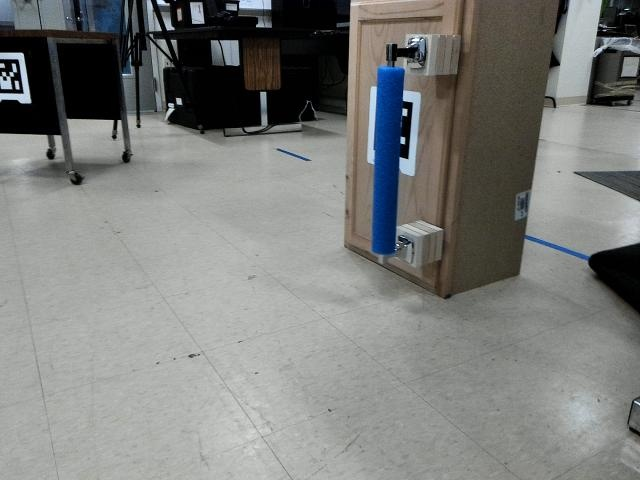noodle_handle: (364, 51, 404, 260)
